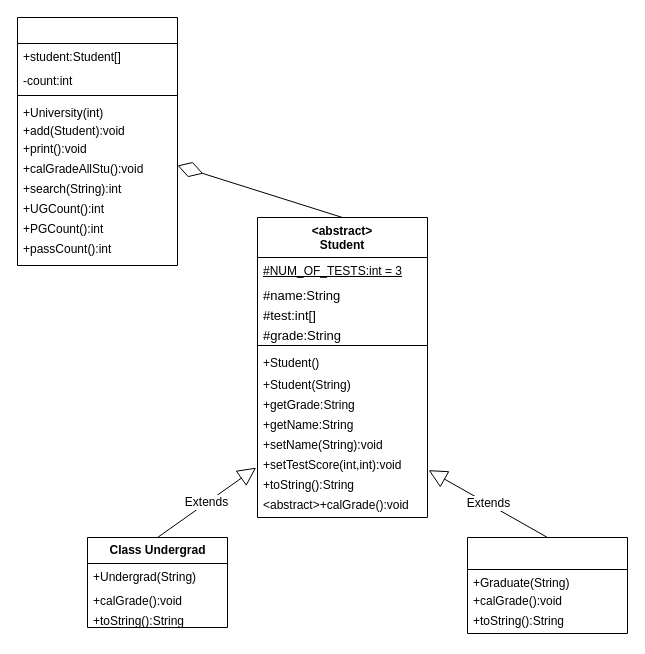
The diagram is 645 pixels wide and 654 high, and some of its shapes have lost their labels. Each missing label, with the box of its shape:
Class Graduate: (466, 536, 628, 634)
Class University: (16, 16, 178, 266)
